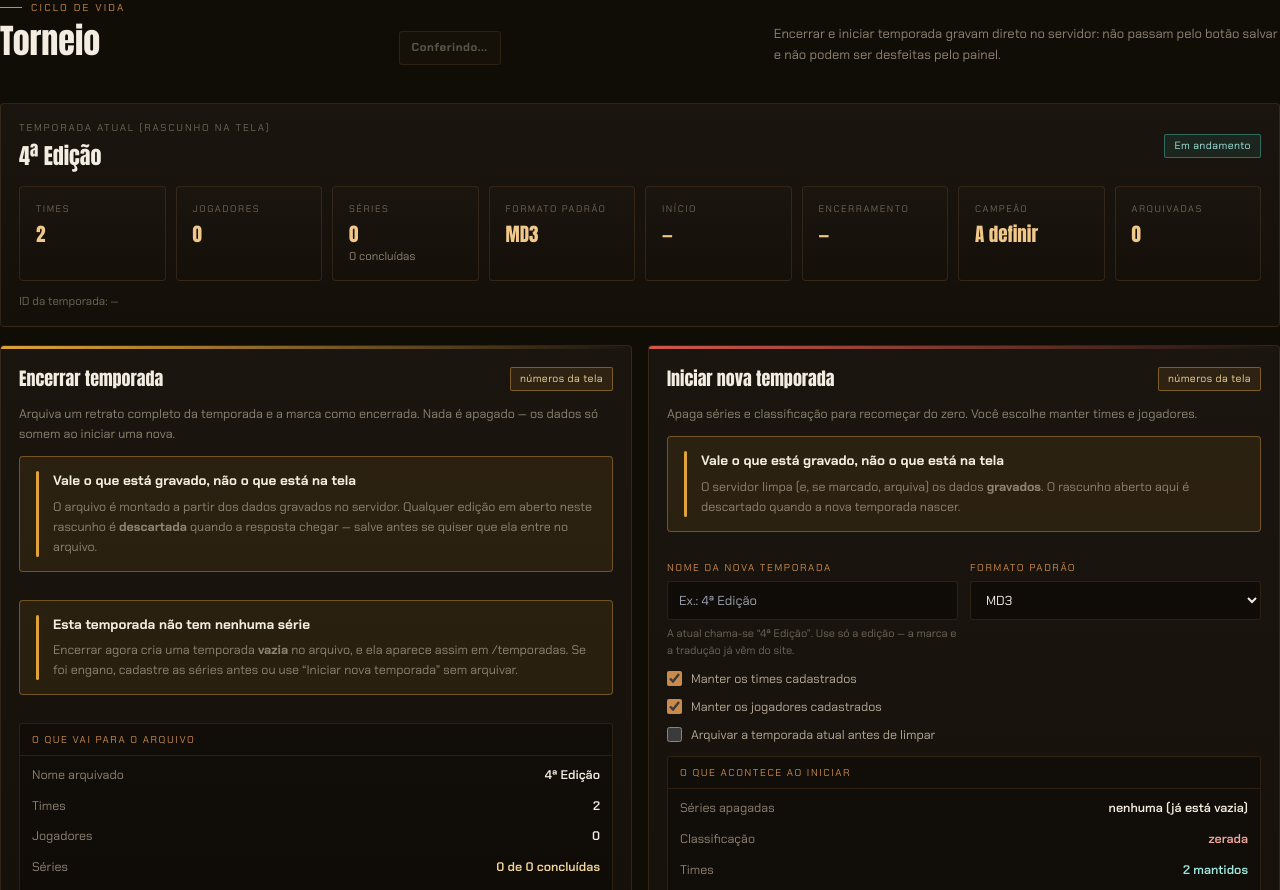
Test: nome da nova temporada (CEN-10) › o exemplo é só a edição, e a marca no nome ganha aviso
Expected: the text "O nome já ganha a marca do site" is not shown
Type "4ª Edição da League of Bronze" into the field with placeholder "Ex.: 4ª Edição" at (812, 600), box top-left (667, 581), bottom-right (958, 620)
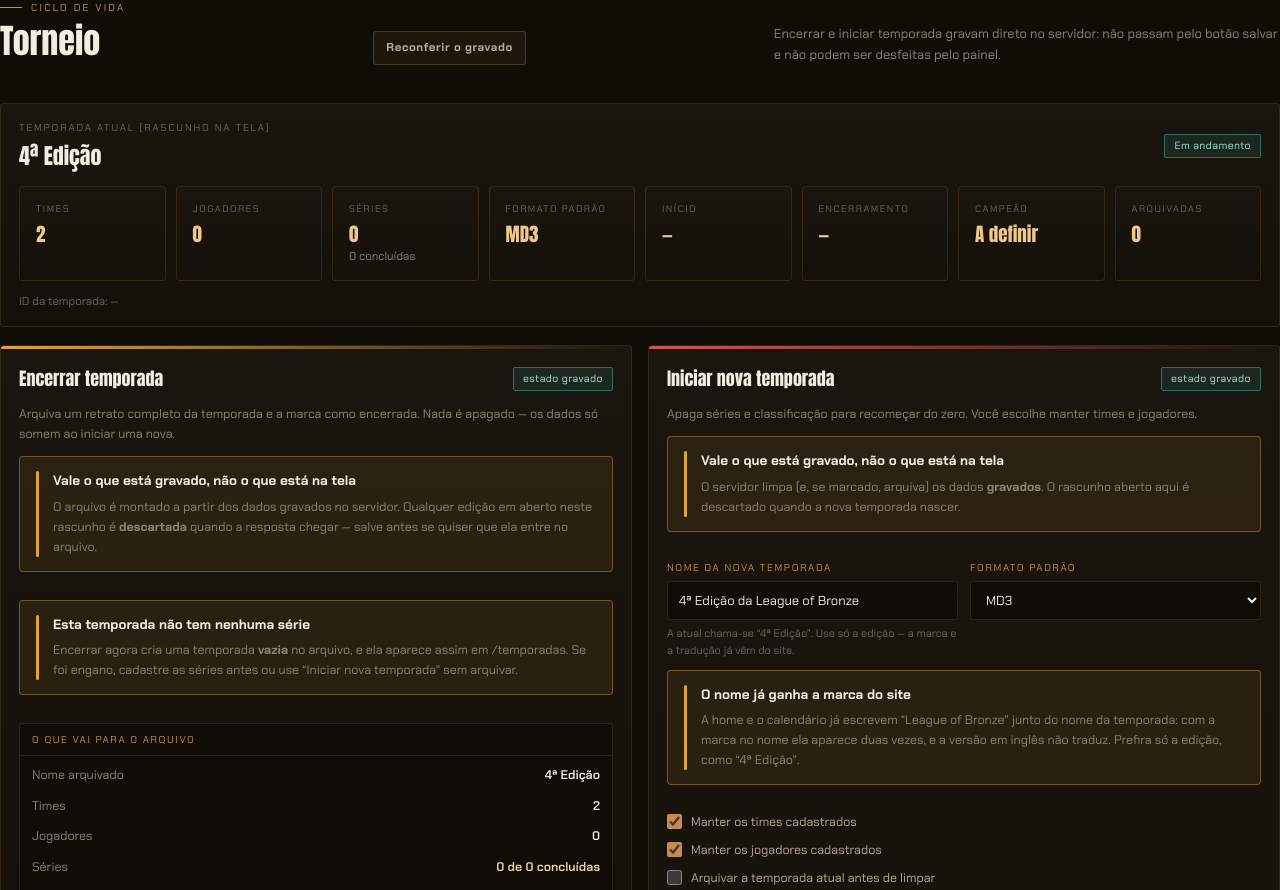
Now the text "O nome já ganha a marca do site" is shown, box top-left (701, 686), bottom-right (911, 703)
